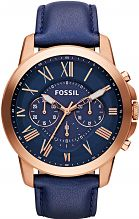watch: (1, 2, 139, 218)
